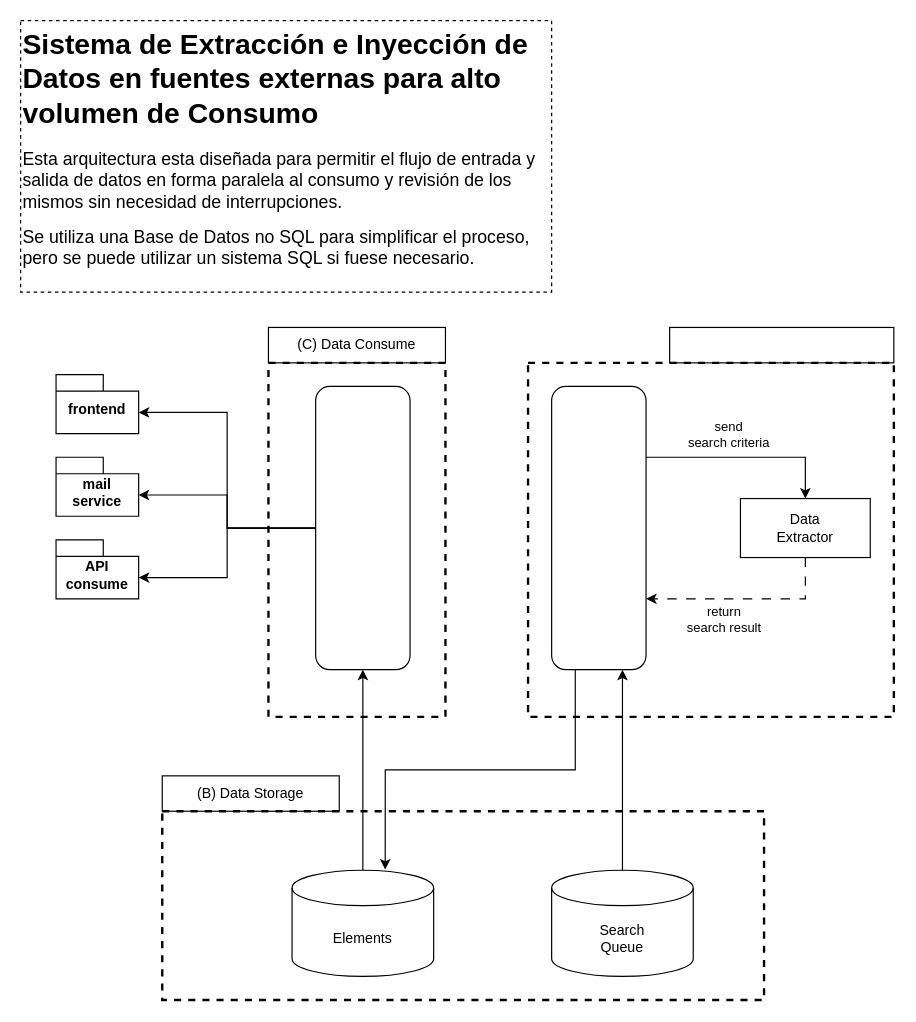
This 916x1022 diagram has some shape labels left out. The shapes that lost their labels are listed below. From the top down, each one's centre as x and y in pixels, then its label:
pixel 781 344: (A) Data Extractor / Searcher
pixel 362 527: API Consume Data
pixel 598 527: API I/O Data
